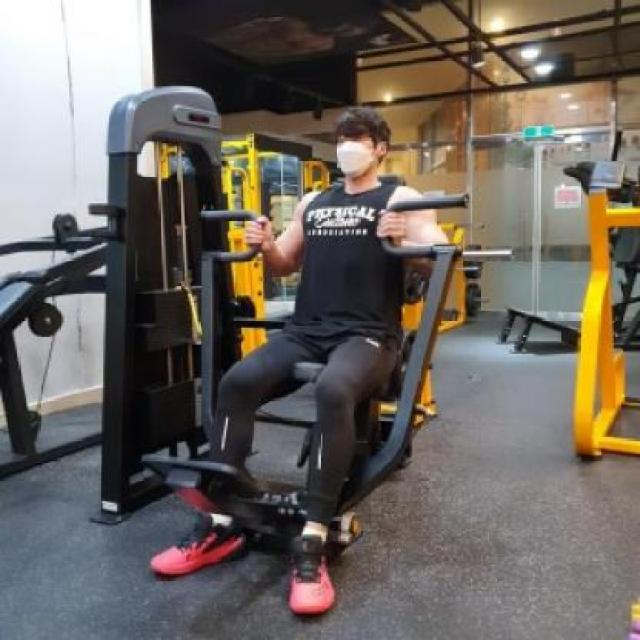Chest Press machine: (86, 70, 511, 628)
